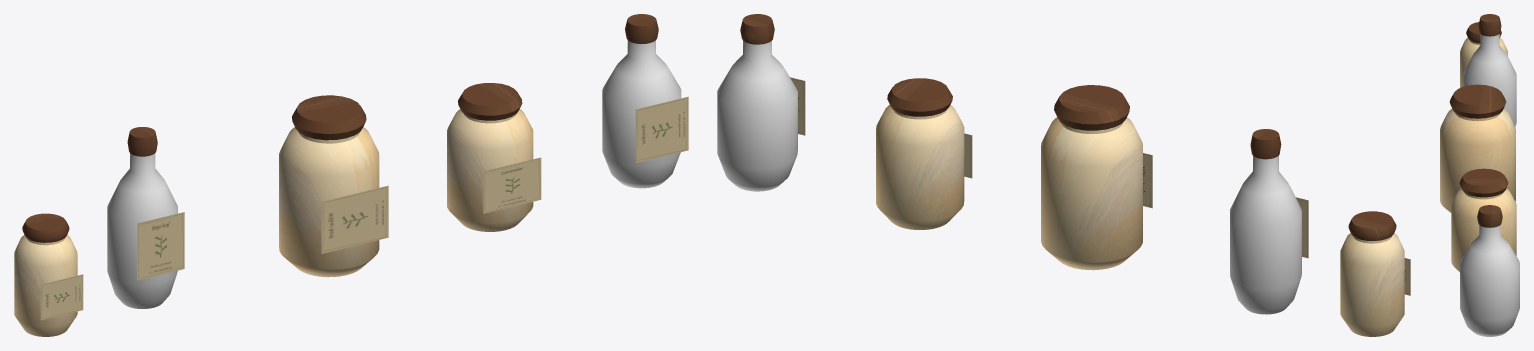
Rendered from CM_HR02_StockCourse2.fbx.
The picture shows the model from 3 angles, left to right: view 1: azimuth 30°, elevation 25°; view 2: azimuth 150°, elevation 25°; view 3: azimuth 270°, elevation 25°; orthographic projection. The views are drawn at different scales.
Parts seen in each view (by area): view 1: CM_HR02_StockCourse2; view 2: CM_HR02_StockCourse2; view 3: CM_HR02_StockCourse2.
Part boxes in pixels (x1,y1,x2,y2): CM_HR02_StockCourse2: [14, 14, 688, 336]; CM_HR02_StockCourse2: [717, 14, 1410, 336]; CM_HR02_StockCourse2: [1440, 14, 1519, 336].
Bounding box in the file's own units: 1.44 × 0.35 × 0.2024.
